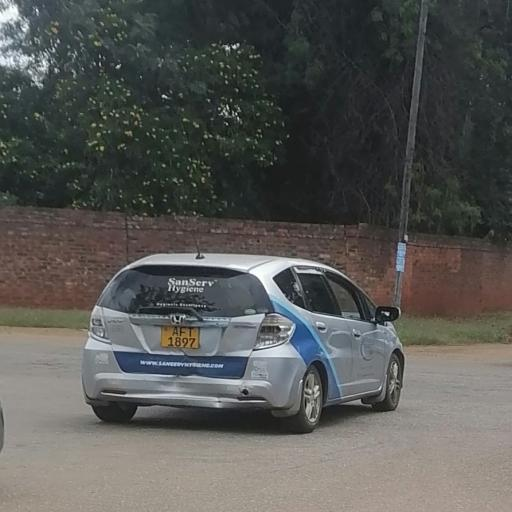number-plates: (158, 322, 203, 352)
